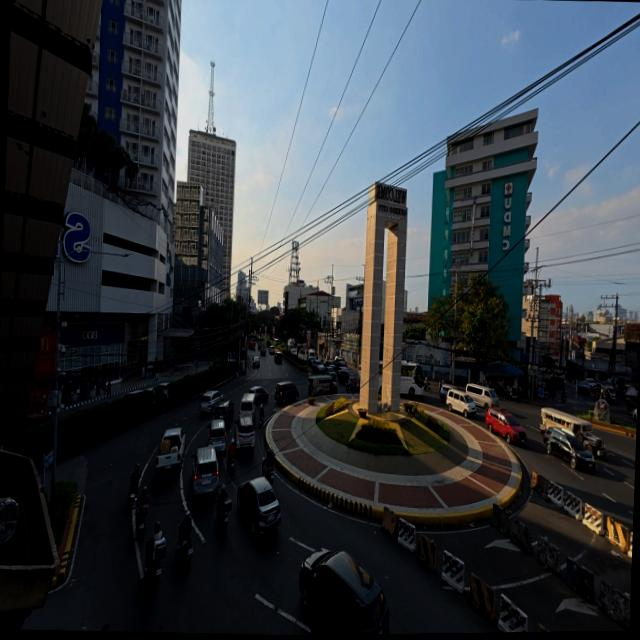Jeepneys: (540, 408, 606, 457), (308, 375, 336, 396)
bus: (400, 360, 422, 397), (248, 336, 256, 349)
car: (298, 550, 388, 634), (237, 476, 280, 534), (543, 428, 594, 469), (485, 408, 525, 444), (155, 427, 184, 473), (191, 446, 218, 495), (233, 415, 254, 449), (198, 391, 222, 414), (274, 381, 298, 403), (212, 400, 232, 426), (25, 412, 51, 428), (248, 386, 267, 404), (153, 382, 169, 402), (336, 368, 353, 384), (600, 386, 615, 404), (438, 383, 450, 401), (122, 389, 144, 398), (311, 359, 324, 374), (325, 366, 336, 380), (334, 359, 346, 371), (315, 361, 324, 374), (333, 356, 344, 366), (306, 356, 315, 368), (310, 358, 318, 371), (631, 407, 638, 421), (584, 378, 595, 386), (273, 352, 281, 363), (323, 360, 333, 368), (252, 356, 259, 367), (268, 344, 274, 355), (259, 346, 265, 356), (290, 349, 296, 356), (274, 339, 279, 344)
motorcycle: (145, 538, 165, 588), (217, 500, 230, 532), (135, 504, 147, 538), (177, 535, 191, 563), (261, 459, 272, 483), (345, 378, 359, 393), (127, 486, 136, 505), (506, 388, 519, 400), (227, 458, 233, 474), (422, 381, 429, 392), (258, 415, 263, 428), (561, 392, 566, 403)
trucks: (155, 428, 184, 473)
vans: (446, 389, 475, 417), (465, 385, 498, 409), (208, 420, 225, 452), (239, 392, 254, 417)
